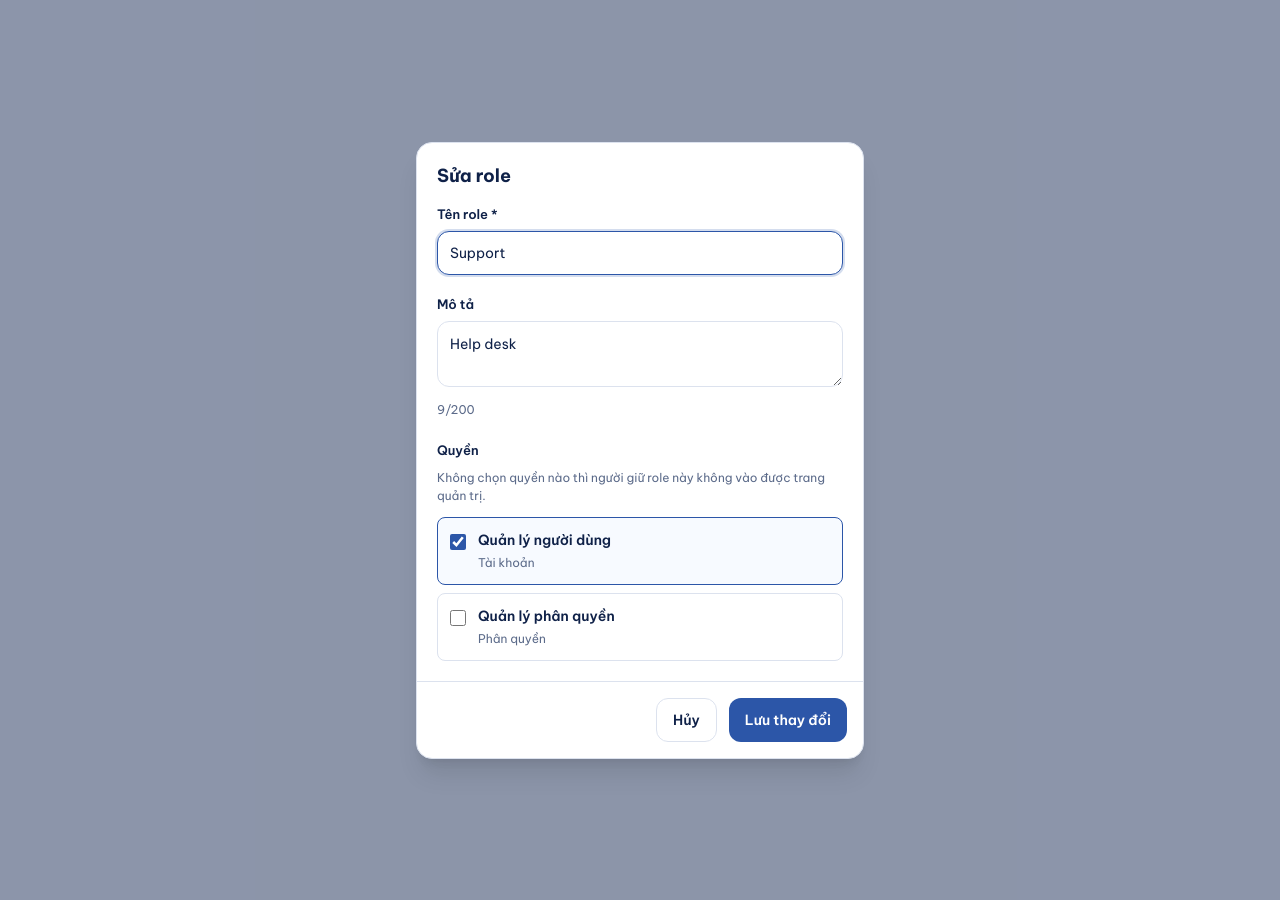
it: A6 Roles contracts and governance safety › preserves system_role_locked error instead of weakening protection
Click the button "Lưu thay đổi". click: point(788, 720)
box: [729,698,847,742]
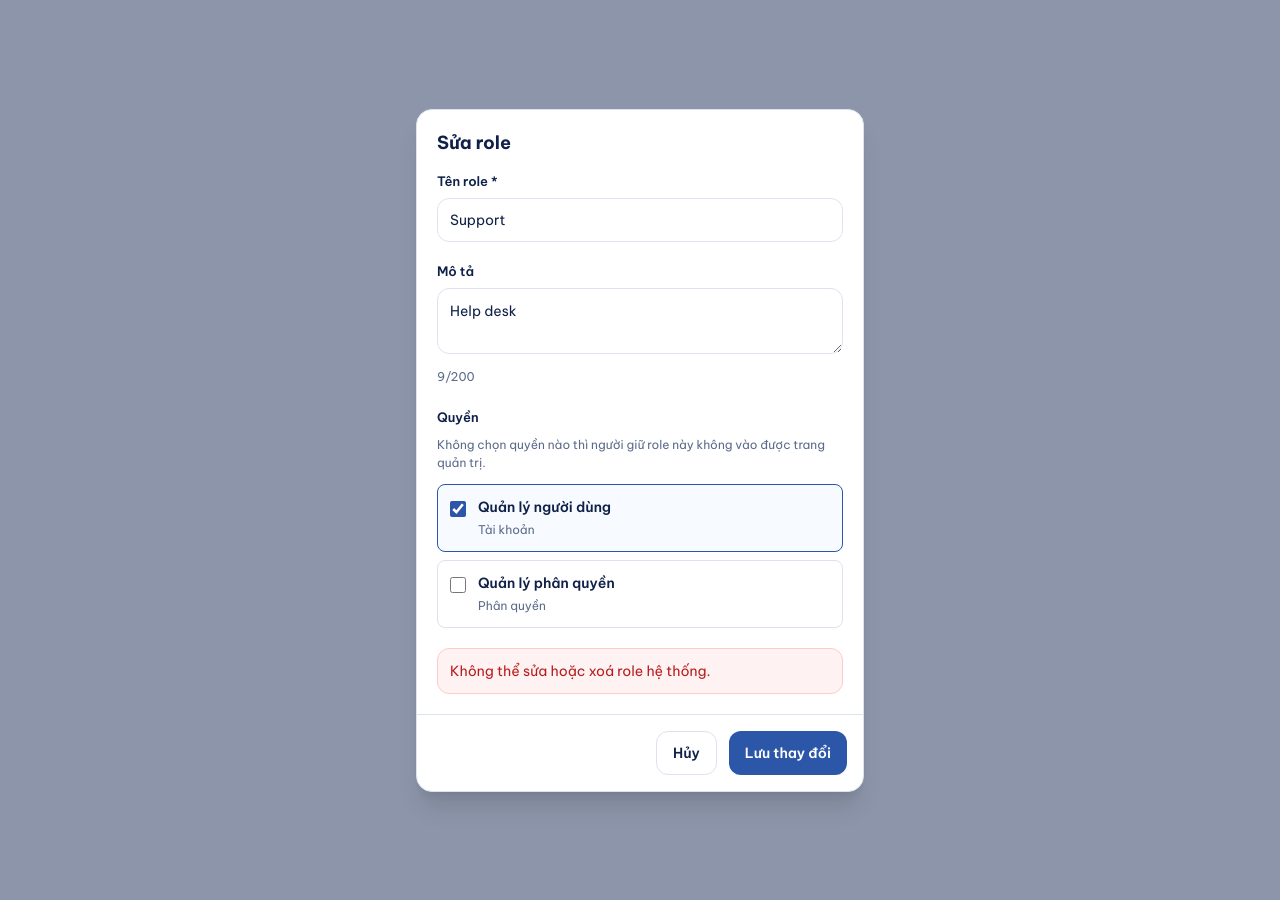
Check: the message "Không thể sửa hoặc xoá role hệ thống." is not empty, box [437,648,843,694]
